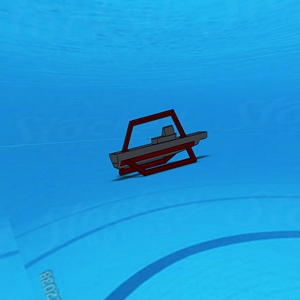submarine: (107, 108, 210, 177)
